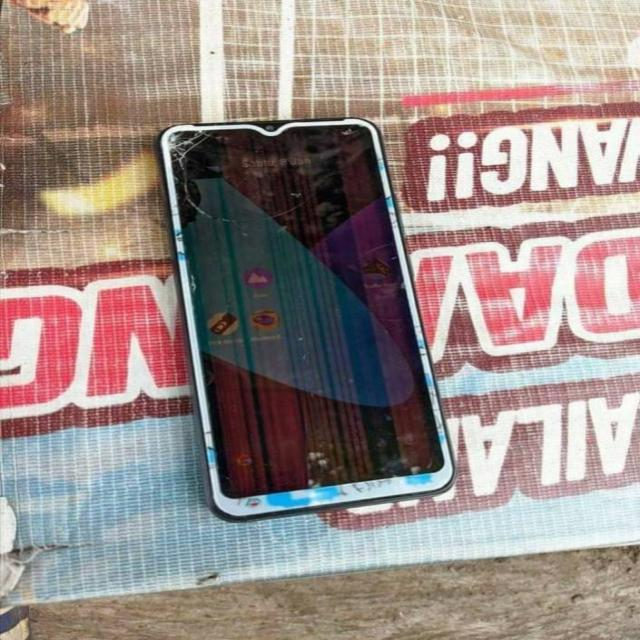phone: (153, 112, 461, 522)
